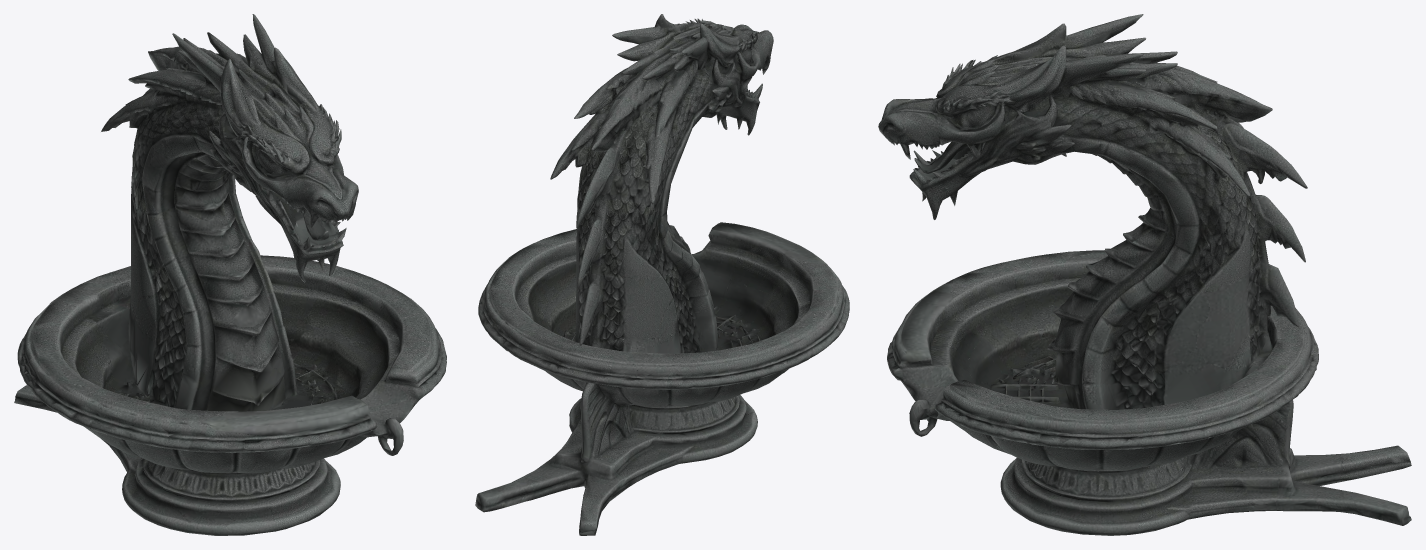
Rendered from dragon-fountain.glb.
3 views of the same model, side by side, from view 1: azimuth 30°, elevation 25°; view 2: azimuth 150°, elevation 25°; view 3: azimuth 270°, elevation 25° (orthographic). The views are drawn at different scales.
Size of the model in its own units: 1.53 by 1.81 by 1.9.
Materials: 1 (1 with a texture image).
